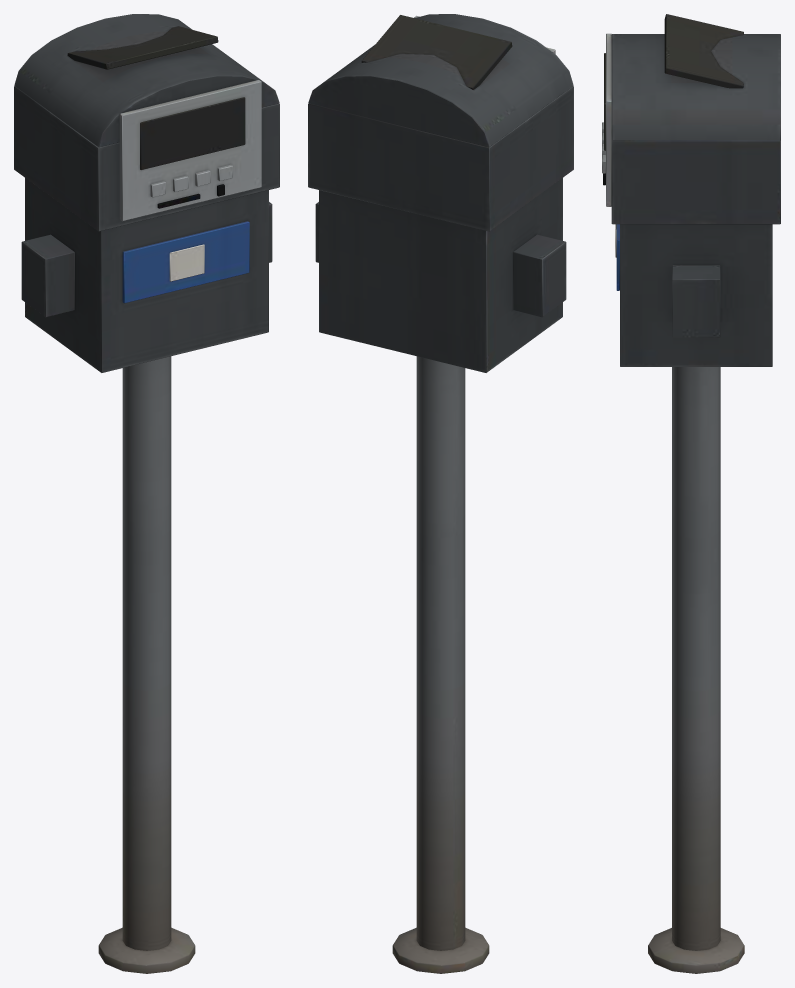
The model's file is parkingMeter-v2.glb.
The picture shows the model from 3 angles, left to right: view 1: azimuth 30°, elevation 25°; view 2: azimuth 150°, elevation 25°; view 3: azimuth 270°, elevation 25°; orthographic projection.
Visible parts, largest first — view 1: parkingMeter; view 2: parkingMeter; view 3: parkingMeter.
Part boxes in pixels (left/top/right/bottom): parkingMeter: left=14, top=14, right=279, bottom=973; parkingMeter: left=308, top=14, right=573, bottom=973; parkingMeter: left=602, top=14, right=780, bottom=973.
Size of the model in its own units: 0.325 by 1.25 by 0.222.
1 material, 1 textured.
